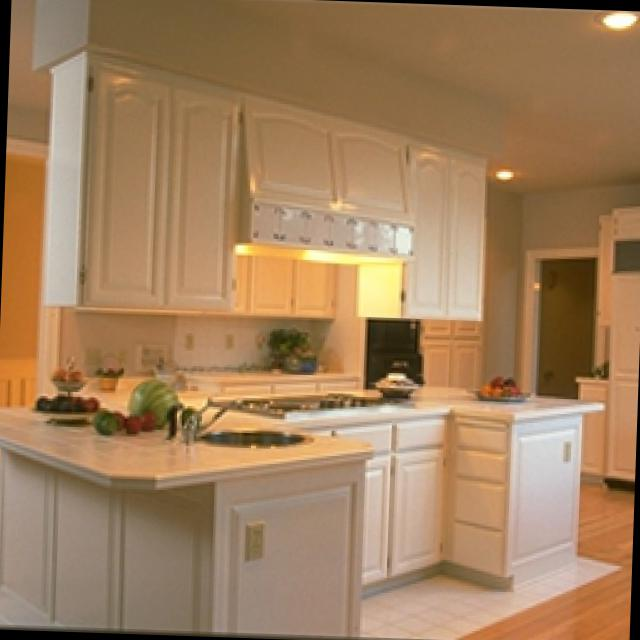bowl -X: (370, 372, 413, 396), (284, 351, 311, 369)
cabinet door: (209, 456, 360, 634), (577, 275, 634, 483), (420, 319, 481, 385)
cabinets: (41, 47, 486, 321), (309, 412, 582, 589)
ceiling beam: (6, 0, 640, 194)
ceiling lamps: (593, 10, 636, 28), (490, 166, 513, 181)
counter bottom: (0, 398, 368, 483), (365, 386, 602, 412)
door handle: (0, 154, 41, 409), (531, 252, 590, 394)
fruit: (27, 349, 100, 427)
fruits bowl: (89, 377, 177, 431), (468, 376, 528, 397)
hood: (232, 102, 411, 264)
kitchen table: (144, 397, 313, 457)
microwave oven: (609, 205, 640, 271)
outlet: (243, 520, 262, 555), (217, 326, 232, 344), (179, 328, 192, 346), (559, 438, 571, 456)
oven cloth: (363, 316, 418, 384)
plant -x: (265, 326, 305, 364), (95, 353, 121, 388)
sink basin: (194, 424, 306, 445)
sink occluded: (177, 392, 262, 443)
stove burner: (210, 391, 412, 414)
